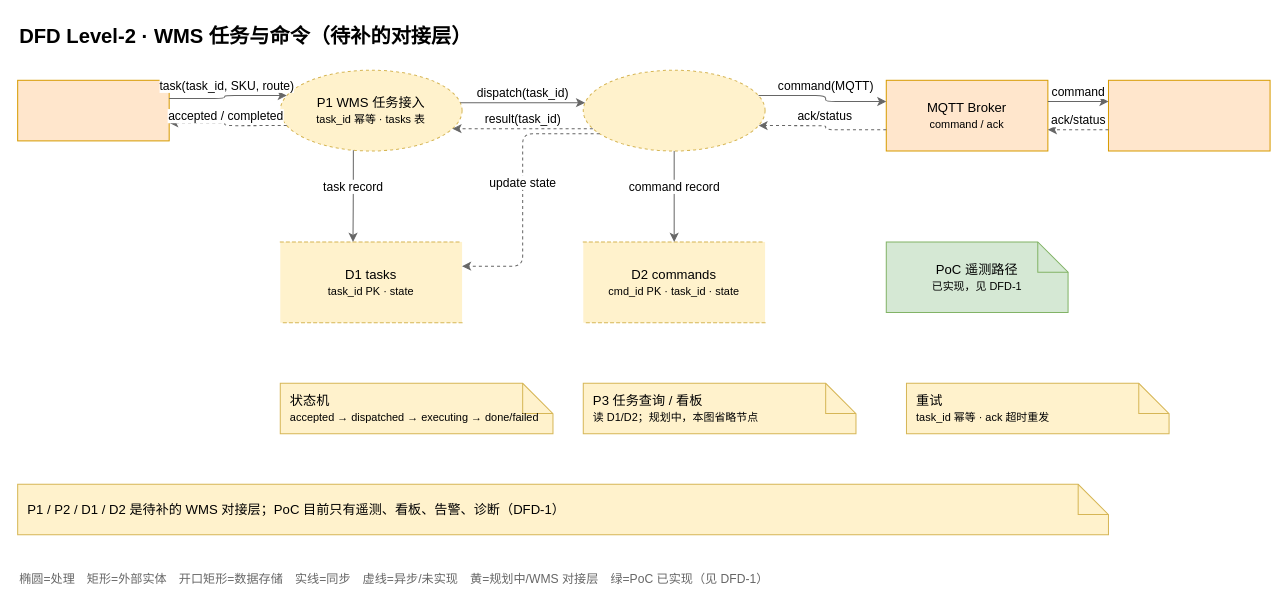
This 1288x606 diagram has some shape labels left out. Here are the shapes that lost their labels. From the top down, the centre of each, then its label:
At [93,110]: "WMS 仓储管理 · 客户系统".
At [673,110]: "P2 命令编排 command/ack · 状态机".
At [1188,115]: "MultiControl / Drive 执行机构".
